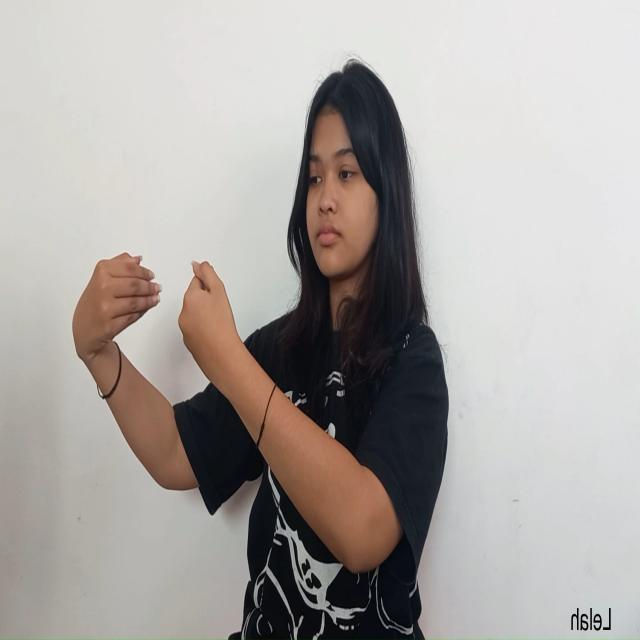Lelah -BISINDO-: (70, 249, 240, 390)
